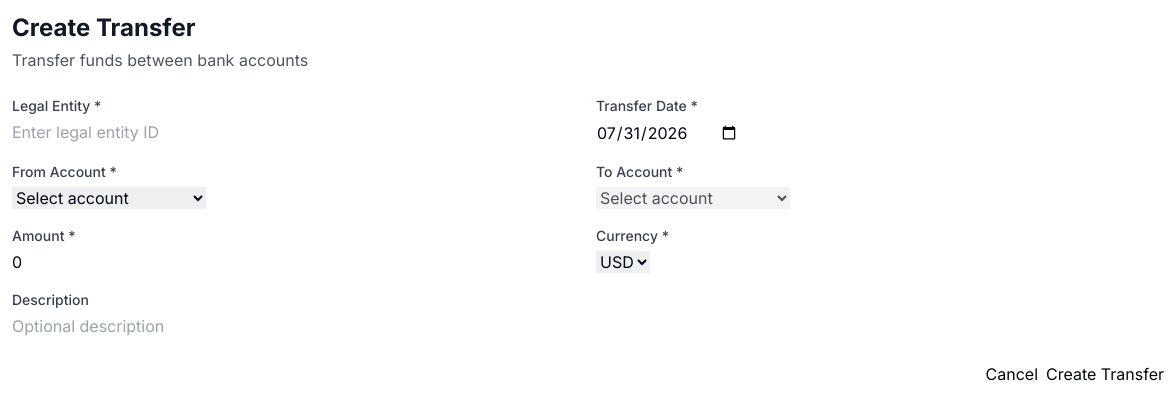
Test: TransferFormPage - Comprehensive Tests › Account Selection Logic › should enable to account after from account selection
The image size is (1176, 418).
Select "Account 1 (123) - USD" in the dropdown labelled "From Account *" at (109, 198), box [12,187,206,209]
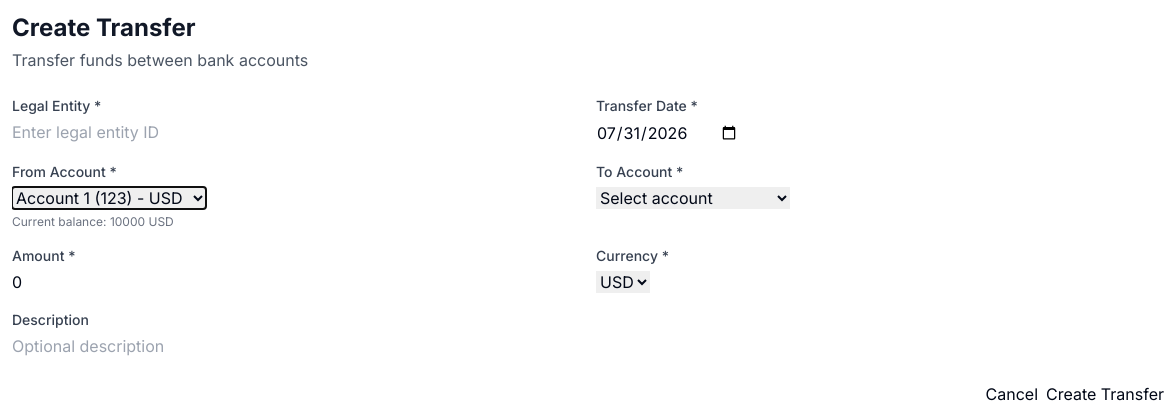
Check: the dropdown labelled "To Account *" is enabled, box [596,187,790,209]
